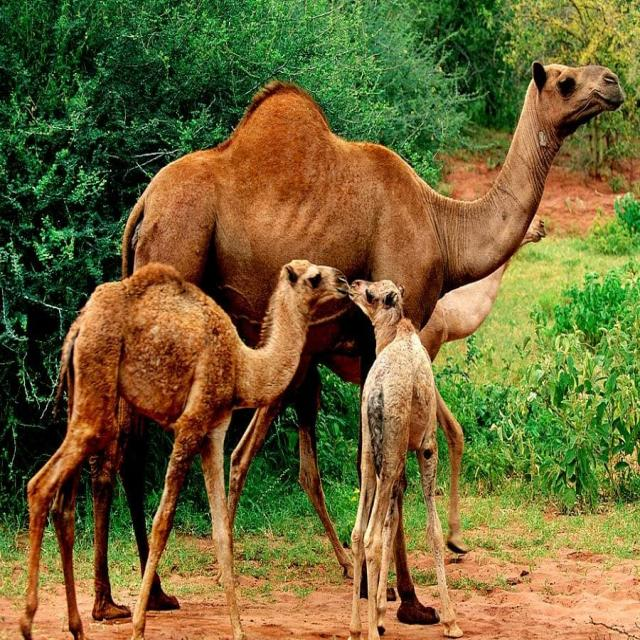Animals: (122, 58, 628, 347), (21, 261, 351, 640), (336, 262, 451, 627)
